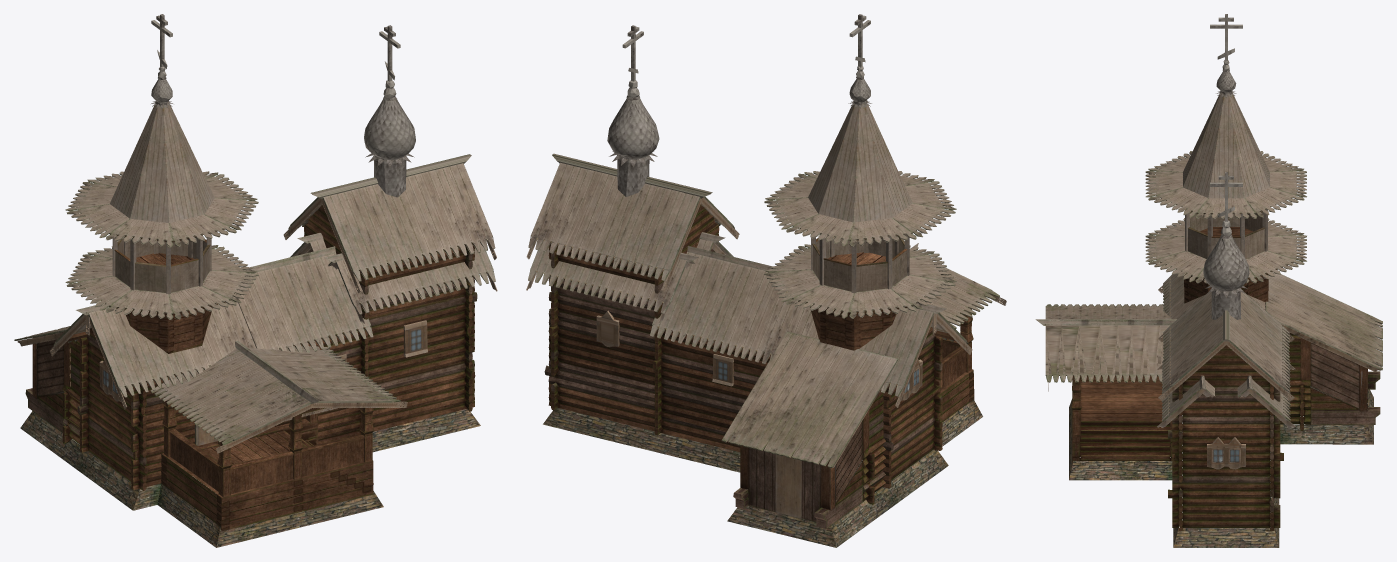
Rendered from Kirchen.fbx.
3 renders of one model, left to right at view 1: azimuth 30°, elevation 25°; view 2: azimuth 150°, elevation 25°; view 3: azimuth 270°, elevation 25°, orthographic. The views are drawn at different scales.
Visible parts, largest first — view 1: Object_22; view 2: Object_22; view 3: Object_22.
Part boxes in pixels (left/top/right/bottom): Object_22: left=14, top=14, right=497, bottom=547; Object_22: left=526, top=14, right=1006, bottom=547; Object_22: left=1035, top=14, right=1382, bottom=547.
Size of the model in its own units: 1236 by 1369 by 1057.
1 material, 1 textured.
